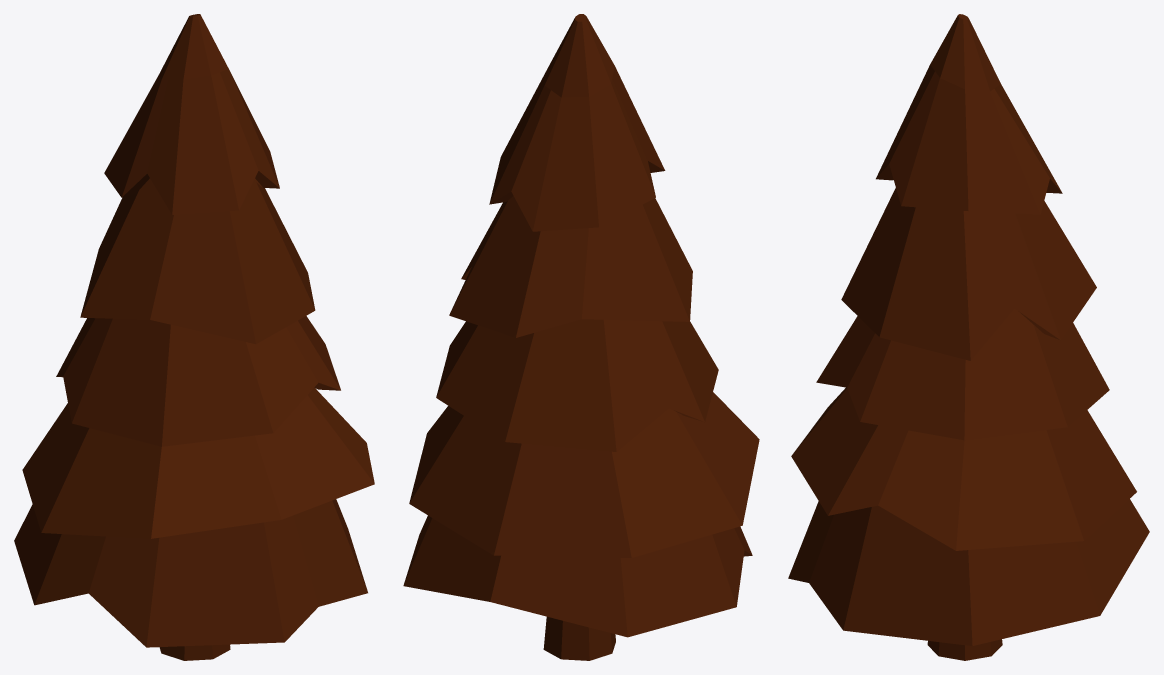
File: SimpleTree.fbx
3 renders of one model, left to right at view 1: azimuth 30°, elevation 25°; view 2: azimuth 150°, elevation 25°; view 3: azimuth 270°, elevation 25°, orthographic.
Parts seen in each view (by area): view 1: Bottor green part, Middle green part 1, Middle green part 2, Middle green part 2.001, Top green part 2.002, Stvol; view 2: Middle green part 1, Middle green part 2, Middle green part 2.001, Bottor green part, Top green part 2.002, Stvol; view 3: Middle green part 1, Bottor green part, Middle green part 2.001, Middle green part 2, Top green part 2.002, Stvol.
Boxes of the visible parts, box(x1,y1,x2,y2) form: Bottor green part: box(14, 499, 367, 647); Middle green part 1: box(22, 387, 374, 538); Middle green part 2: box(56, 316, 340, 446); Middle green part 2.001: box(80, 178, 315, 344); Top green part 2.002: box(104, 14, 279, 214); Stvol: box(159, 644, 230, 660); Middle green part 1: box(409, 392, 759, 557); Middle green part 2: box(436, 319, 718, 451); Middle green part 2.001: box(449, 196, 692, 337); Bottor green part: box(403, 515, 752, 637); Top green part 2.002: box(489, 14, 665, 231); Stvol: box(543, 616, 615, 660); Middle green part 1: box(791, 387, 1136, 550); Bottor green part: box(788, 499, 1149, 645); Middle green part 2.001: box(841, 188, 1096, 360); Middle green part 2: box(816, 308, 1109, 440); Top green part 2.002: box(876, 14, 1062, 214); Stvol: box(927, 639, 1002, 660).
Size of the model in its own units: 829 by 1581 by 823.
6 materials, 6 textured.
